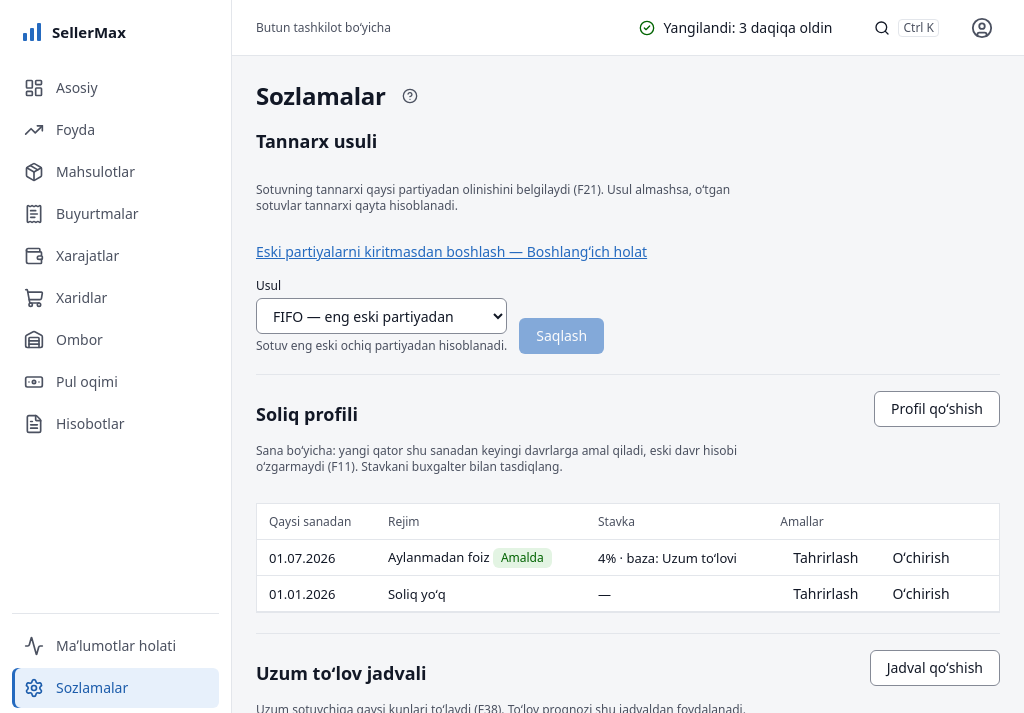
Test case: to'lov jadvali › qo'shish: do'kon, jadval, sana — POST; o'chirish tasdiq bilan
Expected: the heading "Sozlamalar" is shown, [256,80,386,112]
Expected: the table named "Soliq profili" is shown, [257,504,999,612]
Click the button "Jadval qoʻshish" at (935, 668), box [870,650,1000,686]
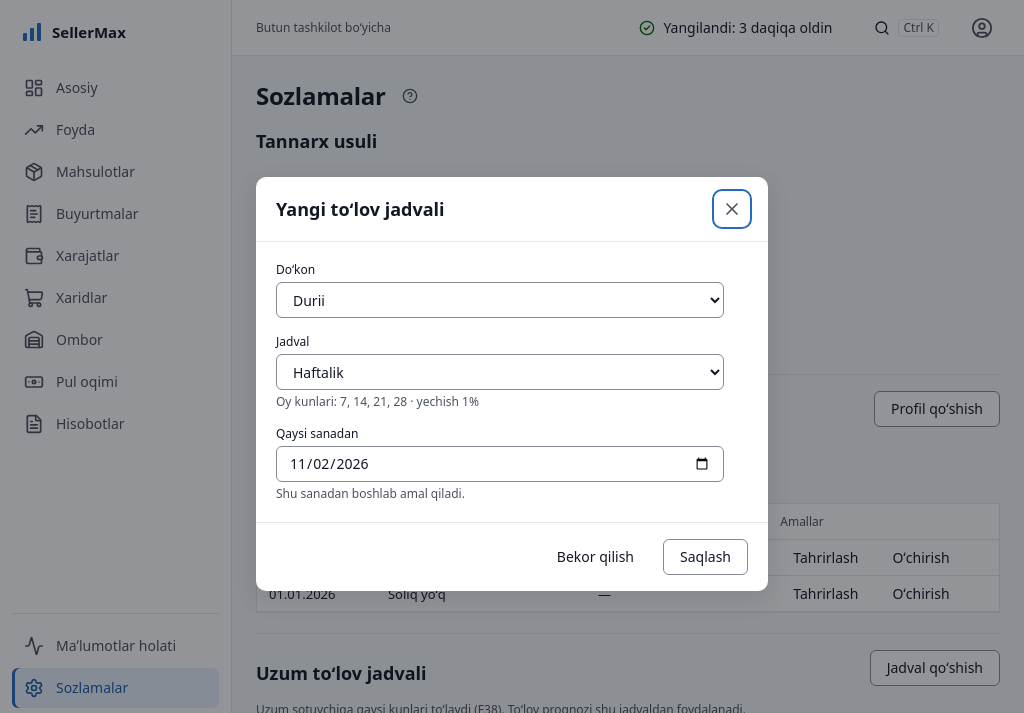
Select "Oylik" in the dropdown labelled "Jadval" at (500, 372), box [276,354,724,390]
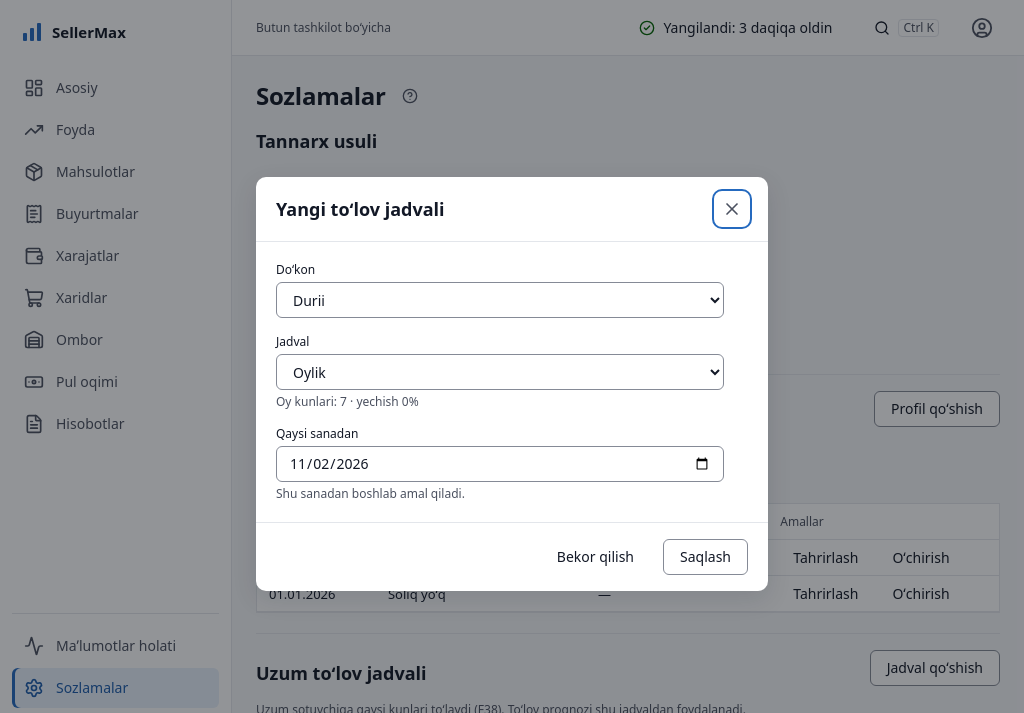
Type "2026-11-01" into the date field labelled "Qaysi sanadan" at (500, 464), box [276,446,724,482]
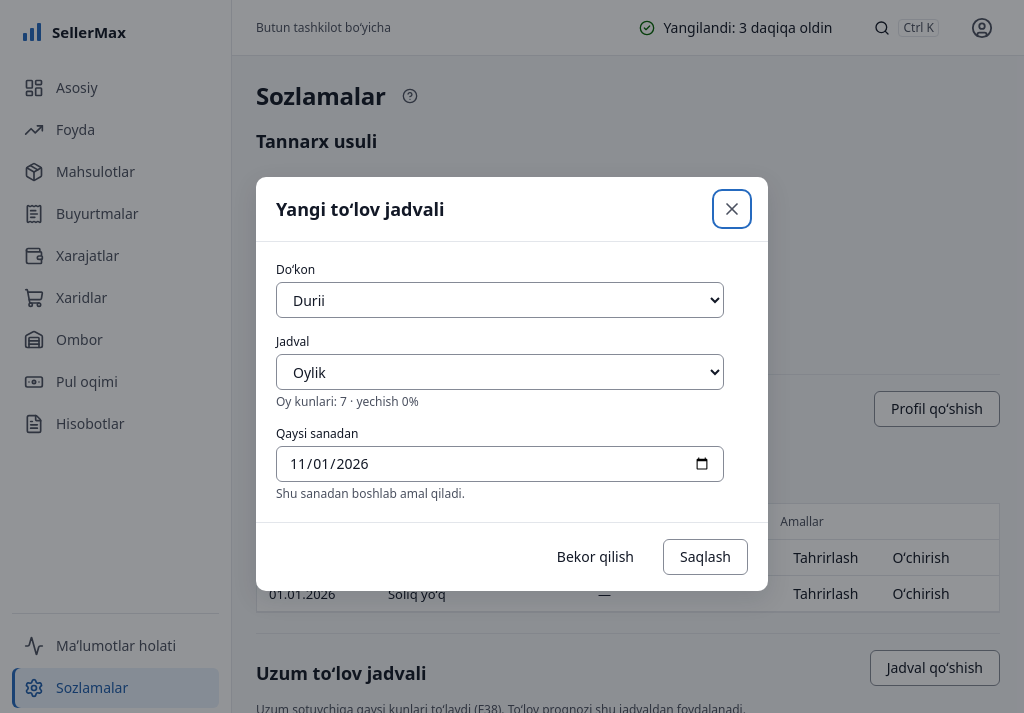
Click the button "Saqlash" at (706, 557), box [663,539,748,575]
(page scrolled)
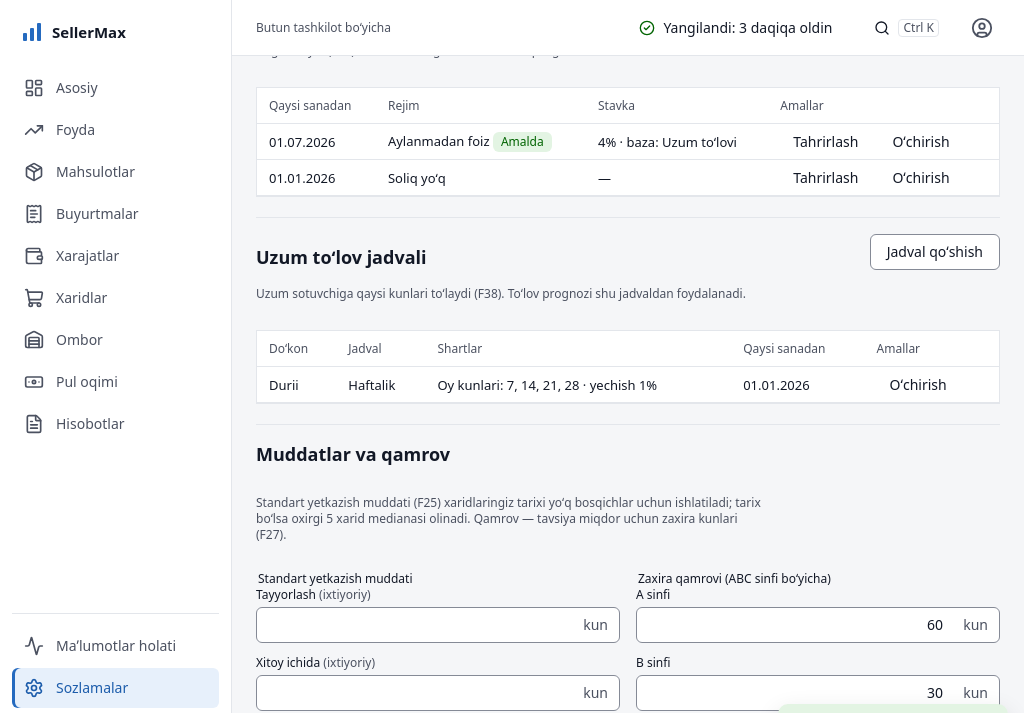
Expected: the dialog is gone
Click the button "Oʻchirish" in the row of "Haftalik" at (918, 384), box [877,368,960,400]
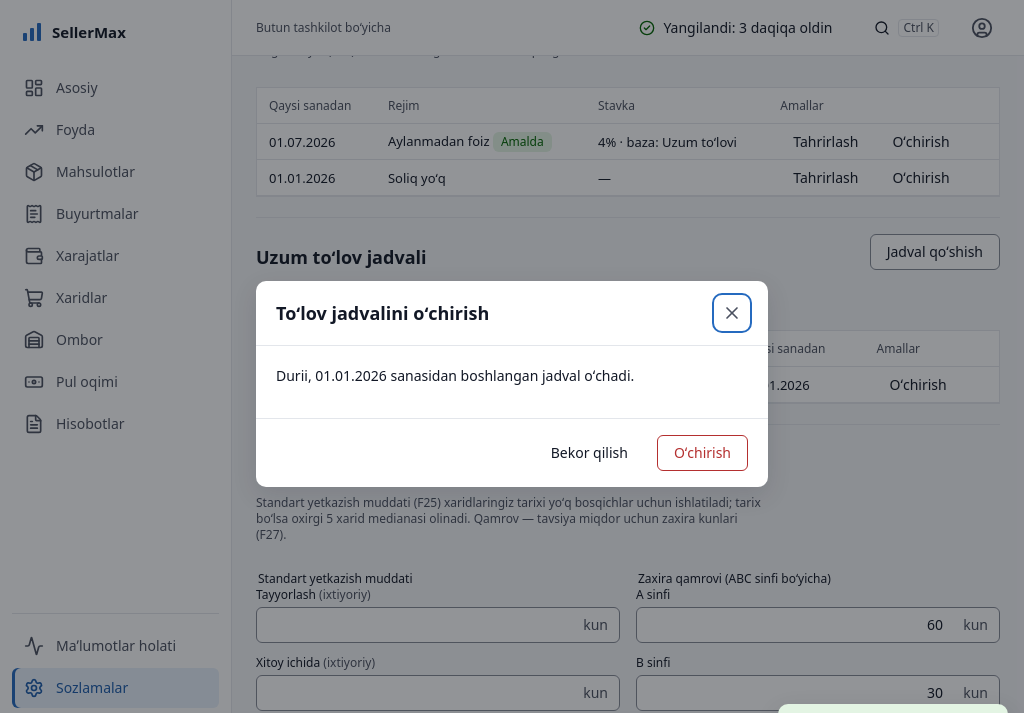
Click the button "Oʻchirish" at (702, 453), box [657,435,748,471]
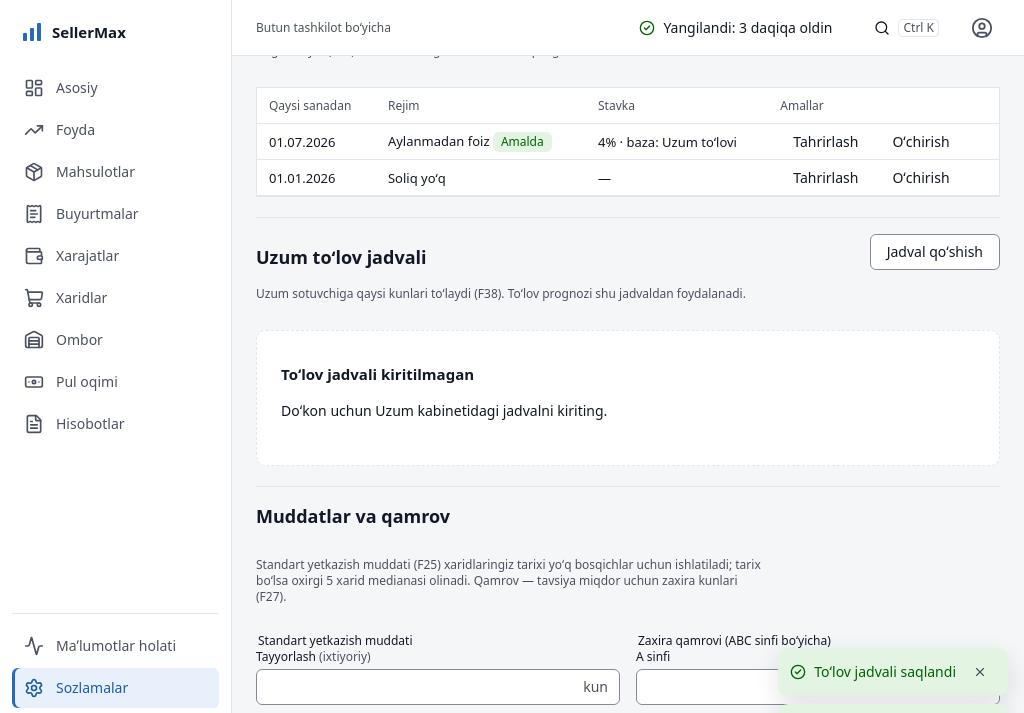
Expected: the heading "Toʻlov jadvali kiritilmagan" is shown, [281,363,474,385]
